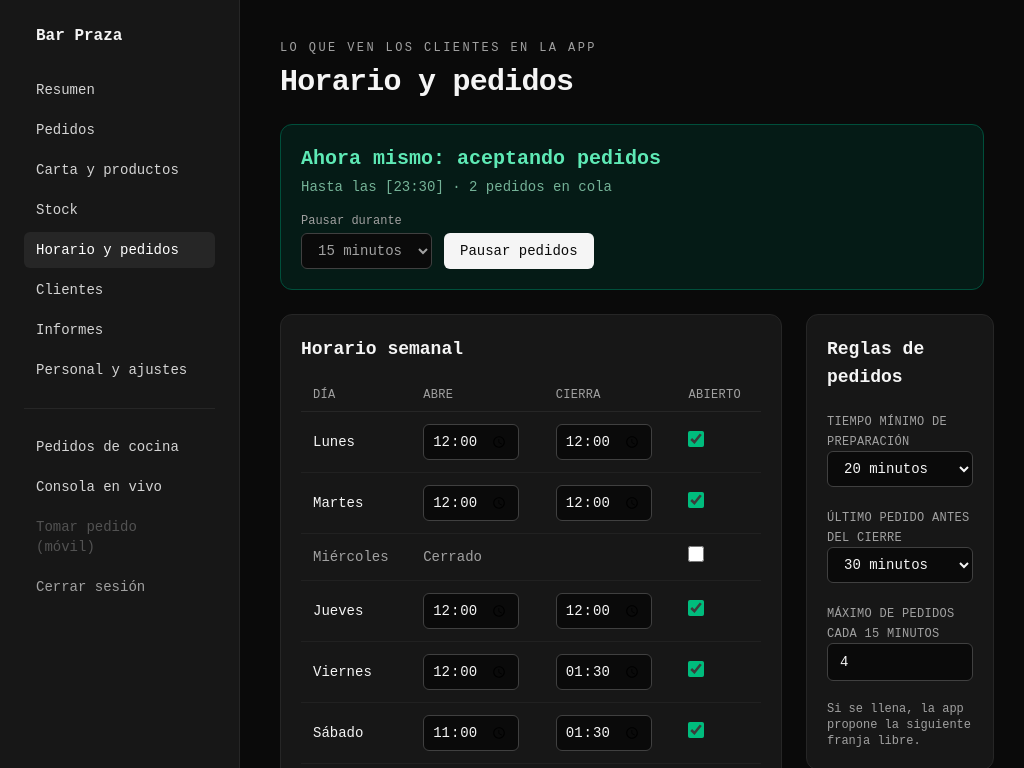
Test case: SchedulePage edge cases › tells the user when pausing fails
Click the button "Pausar pedidos" at x=519, y=251, box [444,233,594,269]
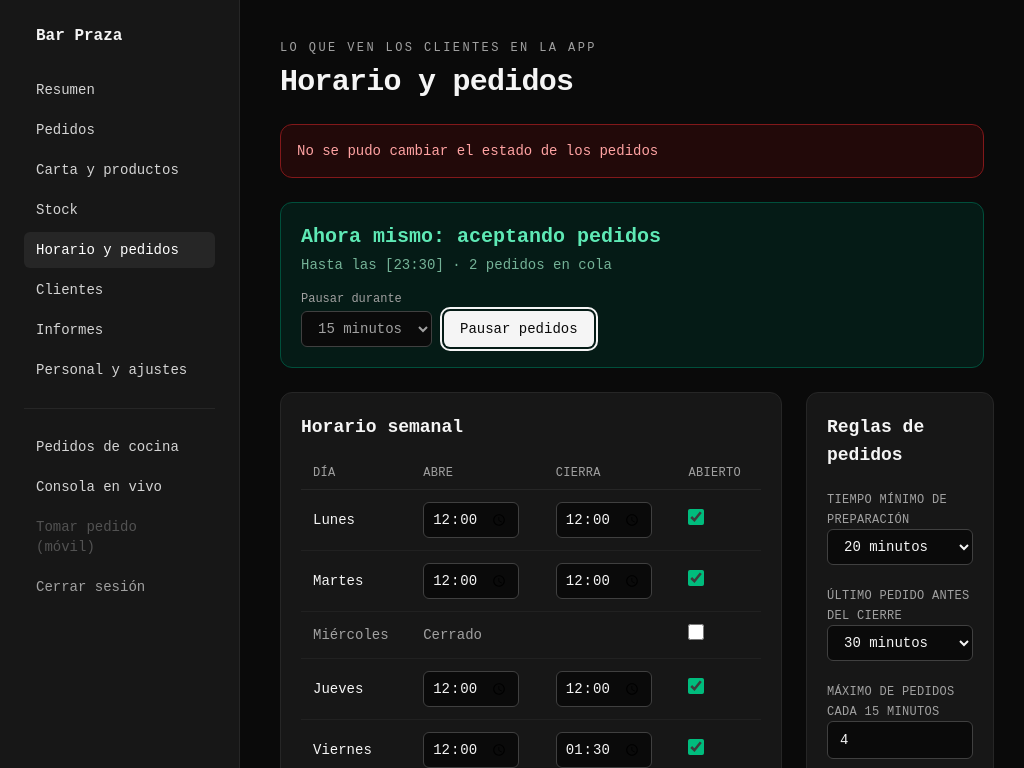
Expected: the text "Ahora mismo: aceptando pedidos" is shown, [301,223,661,251]
Expected: the message reads "No se pudo cambiar el estado de los pedidos", [297,143,658,159]
